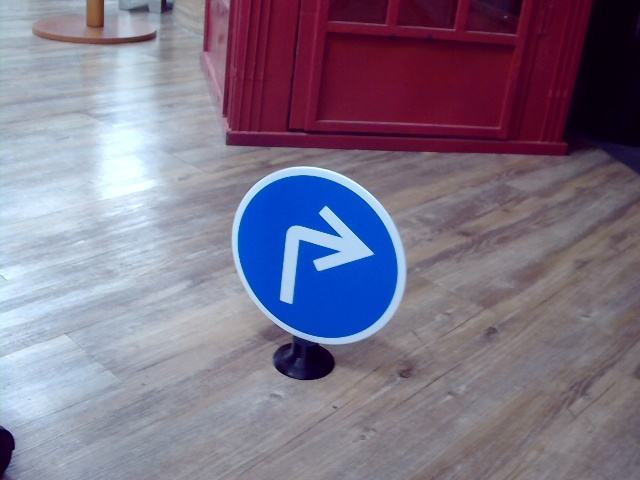turn_right: (265, 203, 368, 310)
